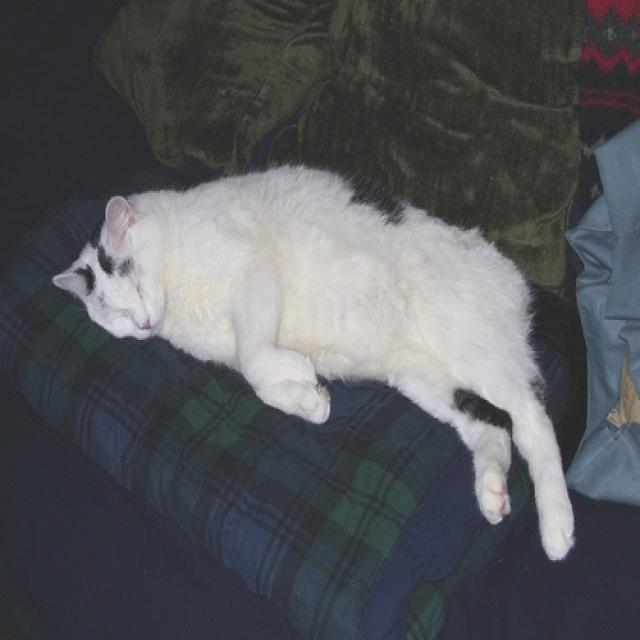cat: (55, 162, 581, 562)
